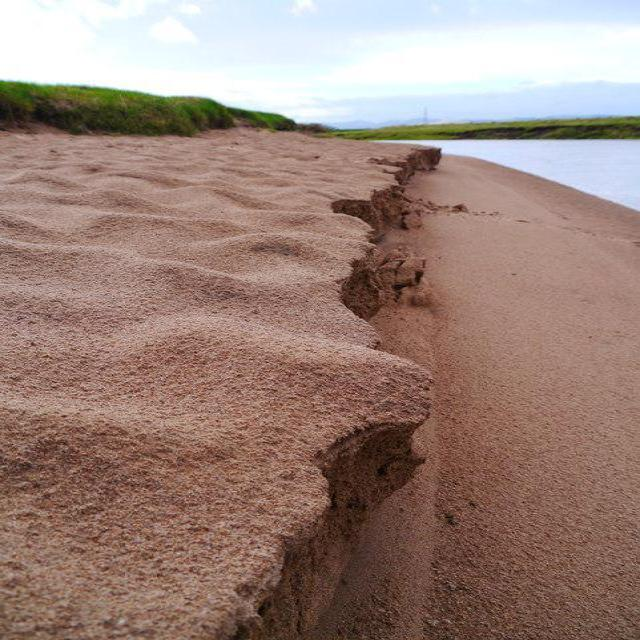Alluvial Soil: (11, 138, 379, 620)
